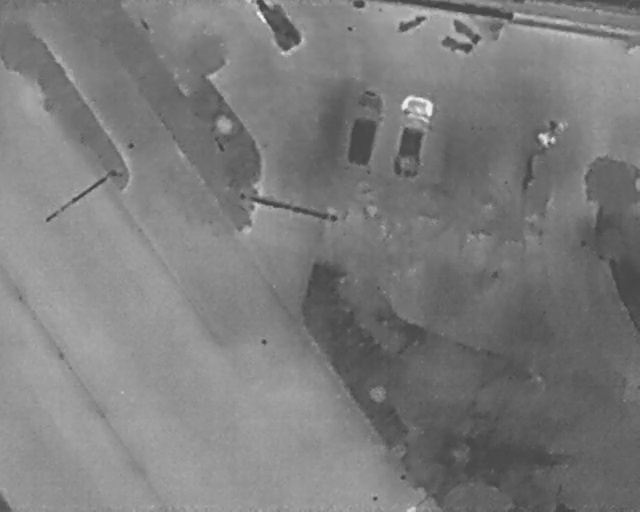Bicycle: (447, 12, 485, 51), (394, 9, 429, 35), (439, 33, 475, 57), (546, 119, 570, 134)
Car: (383, 89, 437, 183), (340, 83, 389, 170), (245, 0, 305, 57)
Person: (533, 128, 559, 149)
